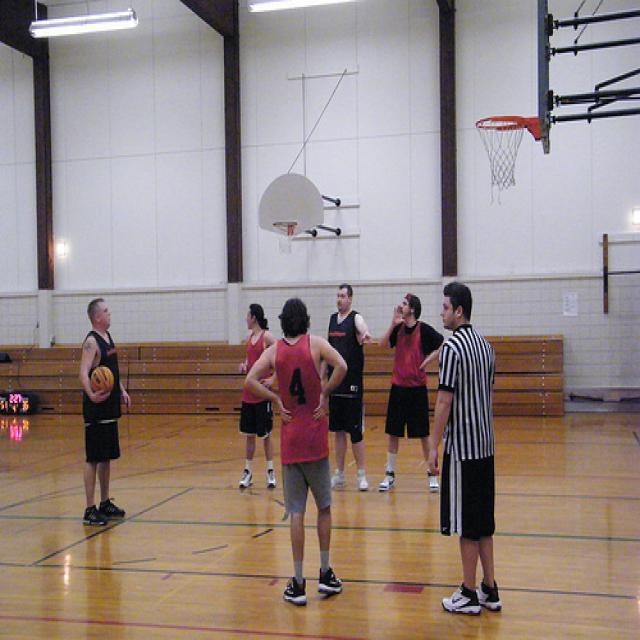basketball: (88, 363, 114, 398)
rim: (476, 115, 525, 136), (272, 220, 298, 230)
